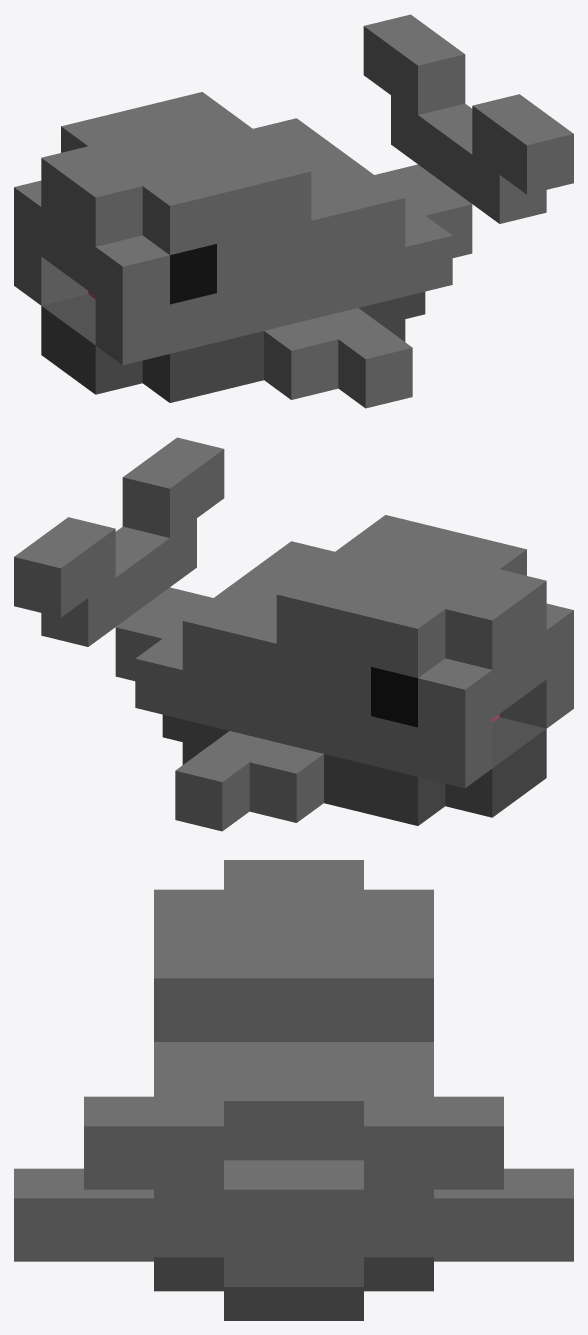
Rendered from overworld-16-props_whale.obj.
3 renders of one model, top to bottom at view 1: azimuth 30°, elevation 25°; view 2: azimuth 150°, elevation 25°; view 3: azimuth 270°, elevation 25°, orthographic. The views are drawn at different scales.
Parts seen in each view (by area): view 1: props_whale; view 2: props_whale; view 3: props_whale.
Part boxes in pixels (x1,y1,x2,y2): props_whale: [14, 14, 573, 408]; props_whale: [14, 437, 573, 831]; props_whale: [14, 860, 573, 1320].
Size of the model in its own units: 0.9 by 0.4 by 0.8.
1 material, 1 textured.
